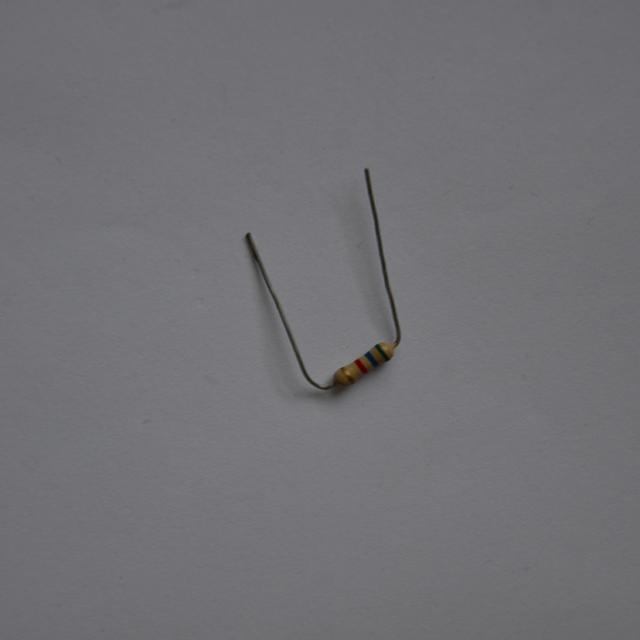blue: (366, 350, 379, 366)
gold: (342, 367, 355, 383)
green: (374, 345, 389, 360)
red: (355, 358, 368, 373)
